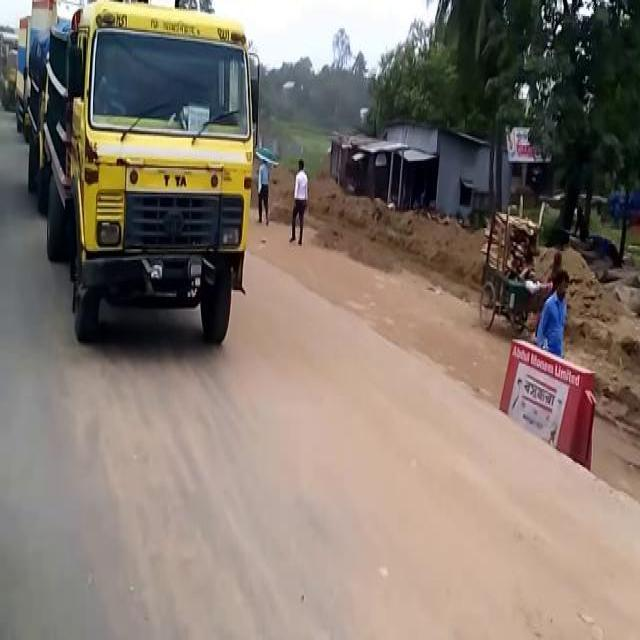truck: (40, 0, 261, 341), (26, 0, 77, 30), (14, 12, 26, 122)
